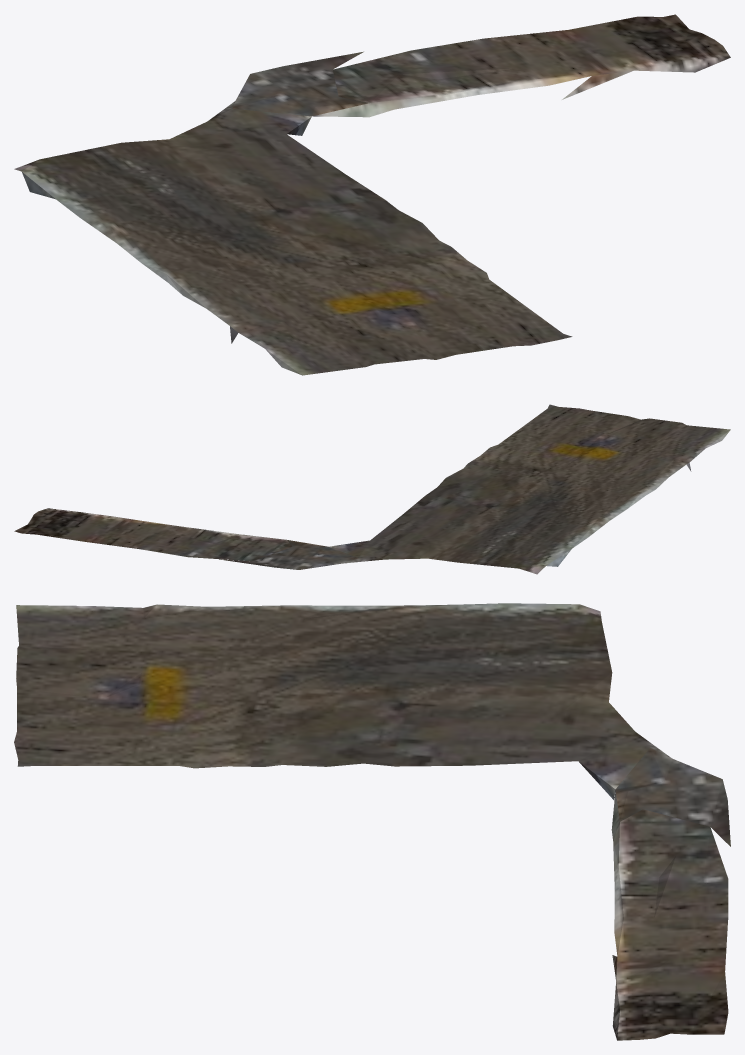
The model's file is meshes_1-dynamic - BLK2GO-3630355-Scan 080 31.obj.
3 renders of one model, top to bottom at view 1: azimuth 30°, elevation 25°; view 2: azimuth 150°, elevation 25°; view 3: azimuth 270°, elevation 25°, orthographic. The views are drawn at different scales.
Visible parts, largest first — view 1: 1-dynamic_-_BLK2GO-3630355-Scan_080_31_0; view 2: 1-dynamic_-_BLK2GO-3630355-Scan_080_31_0; view 3: 1-dynamic_-_BLK2GO-3630355-Scan_080_31_0.
Boxes of the visible parts, bbox=[...] form: 1-dynamic_-_BLK2GO-3630355-Scan_080_31_0: bbox=[14, 14, 730, 375]; 1-dynamic_-_BLK2GO-3630355-Scan_080_31_0: bbox=[14, 404, 730, 574]; 1-dynamic_-_BLK2GO-3630355-Scan_080_31_0: bbox=[14, 603, 730, 1040].
Bounding box in the file's own units: 2.43 × 0.2602 × 2.03.
1 material, 1 textured.
